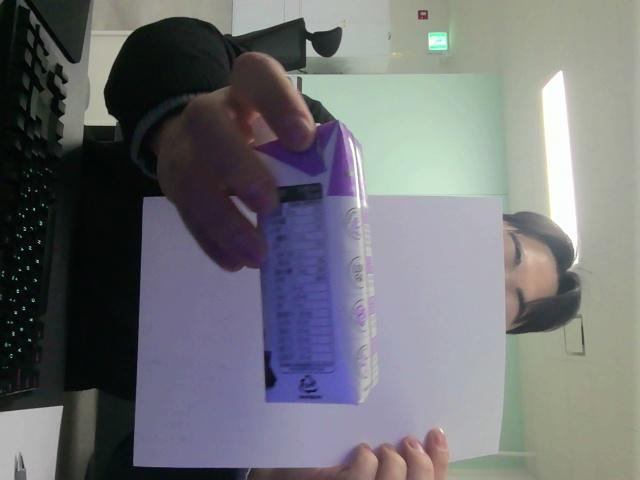milk: (257, 121, 377, 403)
